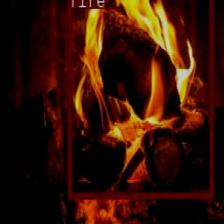fire: (67, 0, 213, 198)
